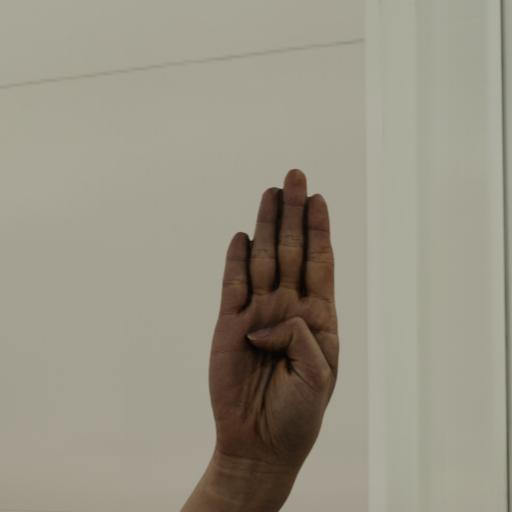B: (204, 164, 345, 461)
